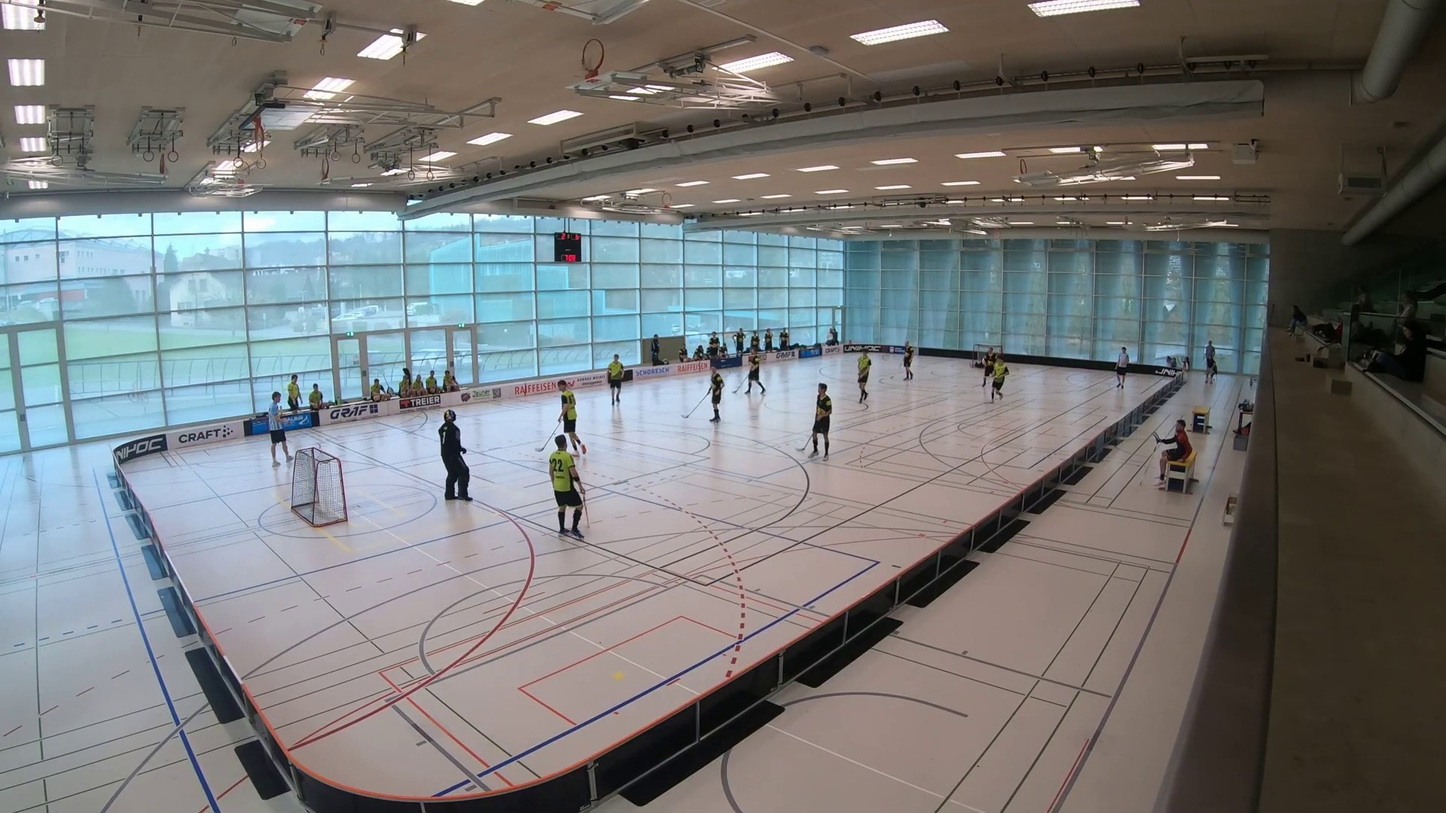Schiri: (255, 384, 298, 463), (1113, 342, 1130, 389)
goalkeeper: (438, 409, 471, 501), (969, 340, 982, 373)
player: (549, 435, 582, 539), (557, 379, 585, 454), (810, 382, 831, 459), (607, 354, 623, 404), (991, 355, 1008, 402), (746, 352, 765, 394), (709, 370, 724, 422), (857, 350, 871, 403), (981, 346, 998, 386), (903, 341, 914, 379)
